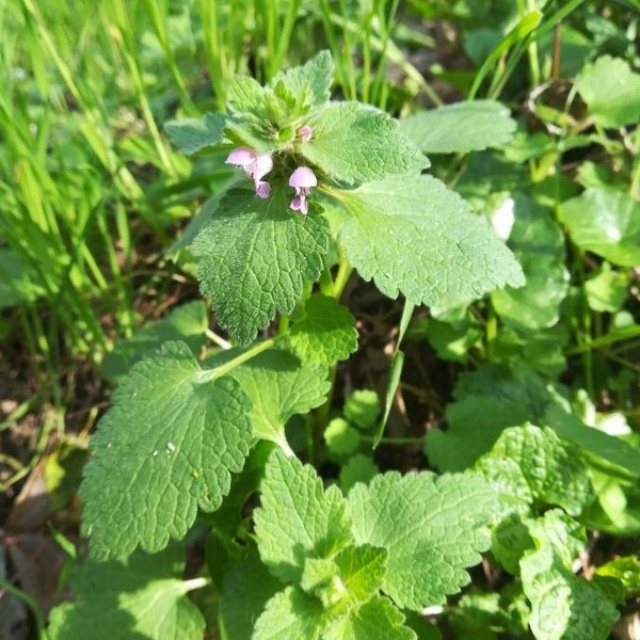obstacle: (63, 64, 541, 580)
